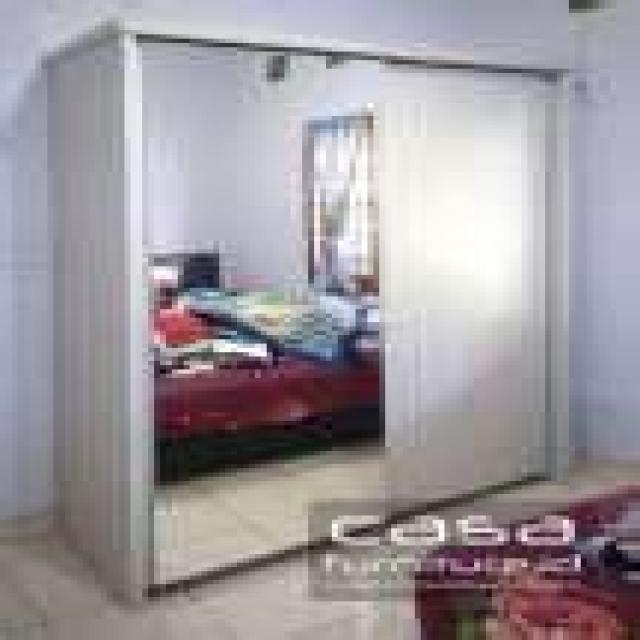Closet: (30, 11, 580, 614)
